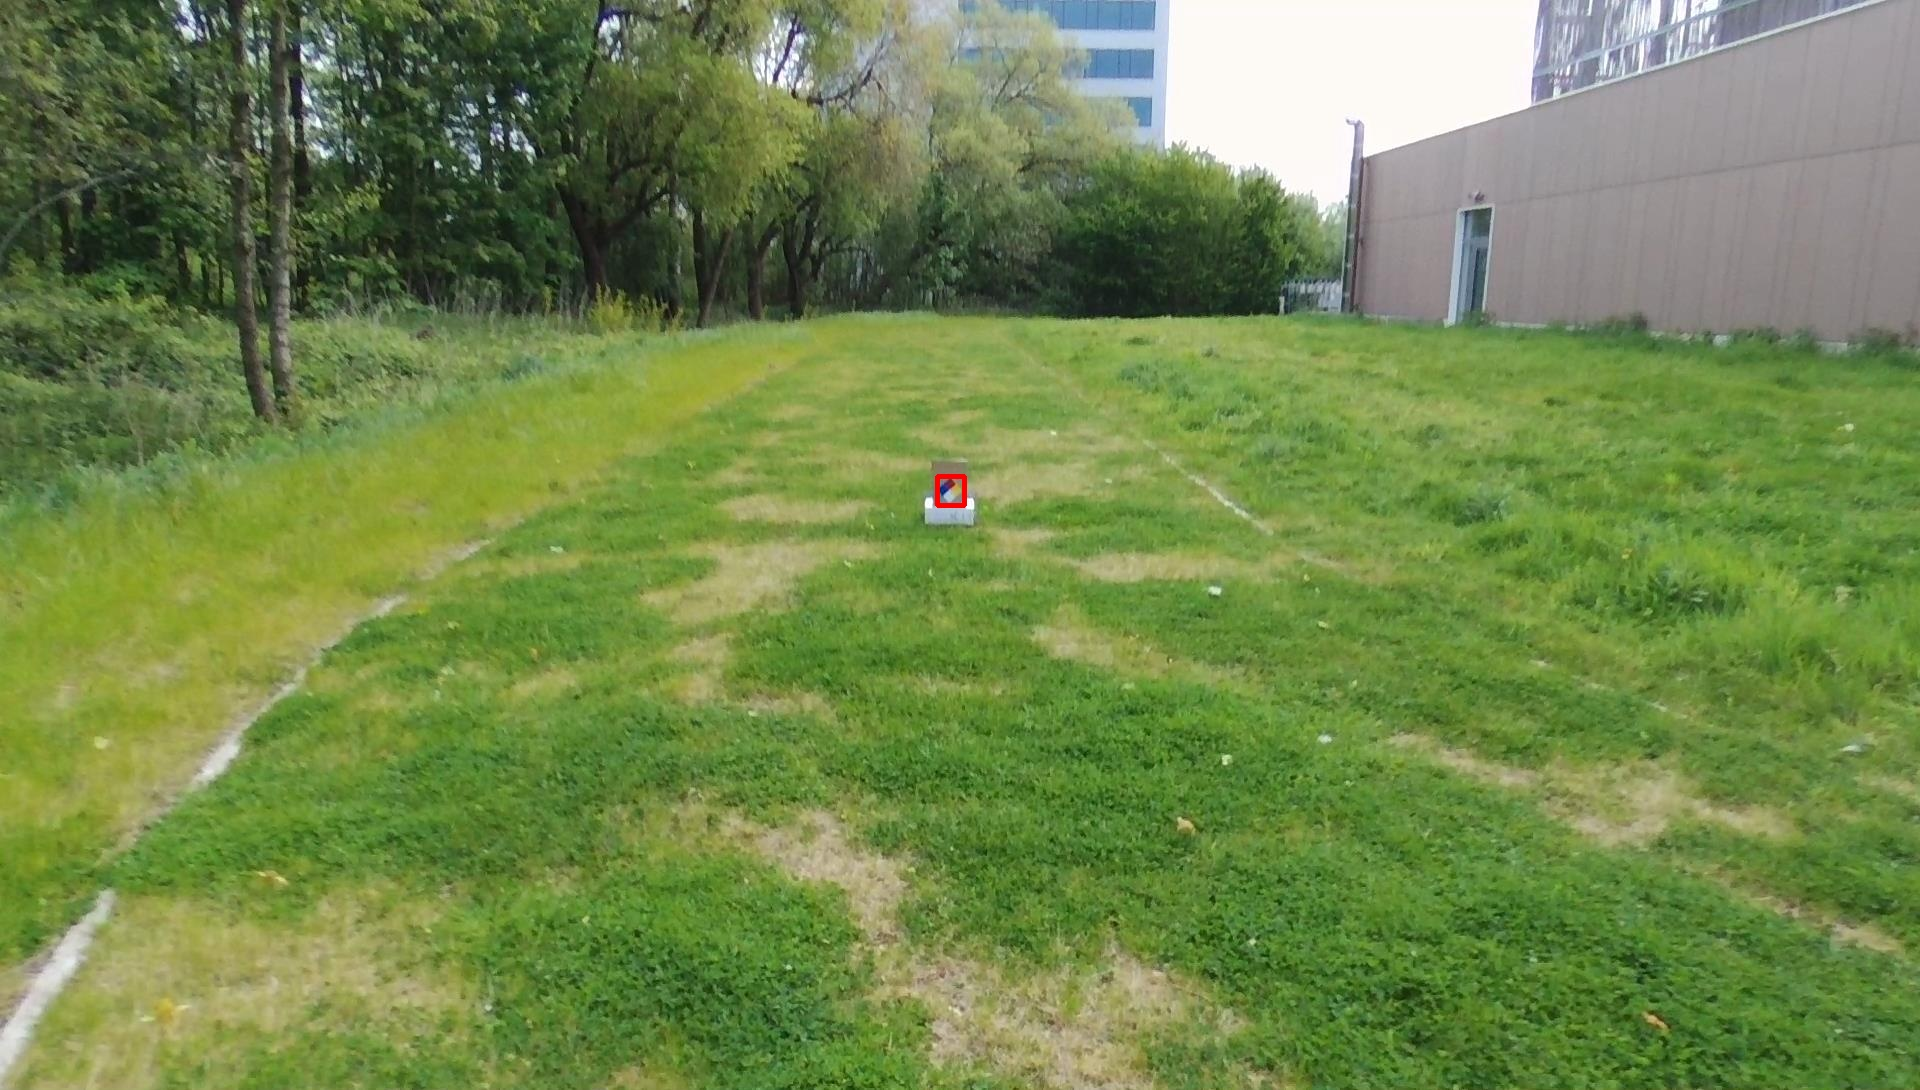nfpa: (938, 476, 964, 505)
